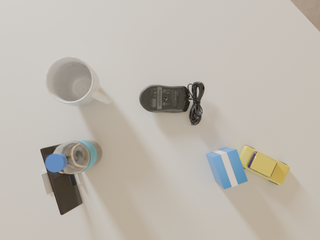bottle: (45, 140, 102, 176)
box: (206, 147, 248, 189)
cup: (46, 56, 112, 106)
mouse: (139, 82, 204, 125)
phone: (40, 144, 82, 215)
toy_car: (239, 145, 290, 185)
